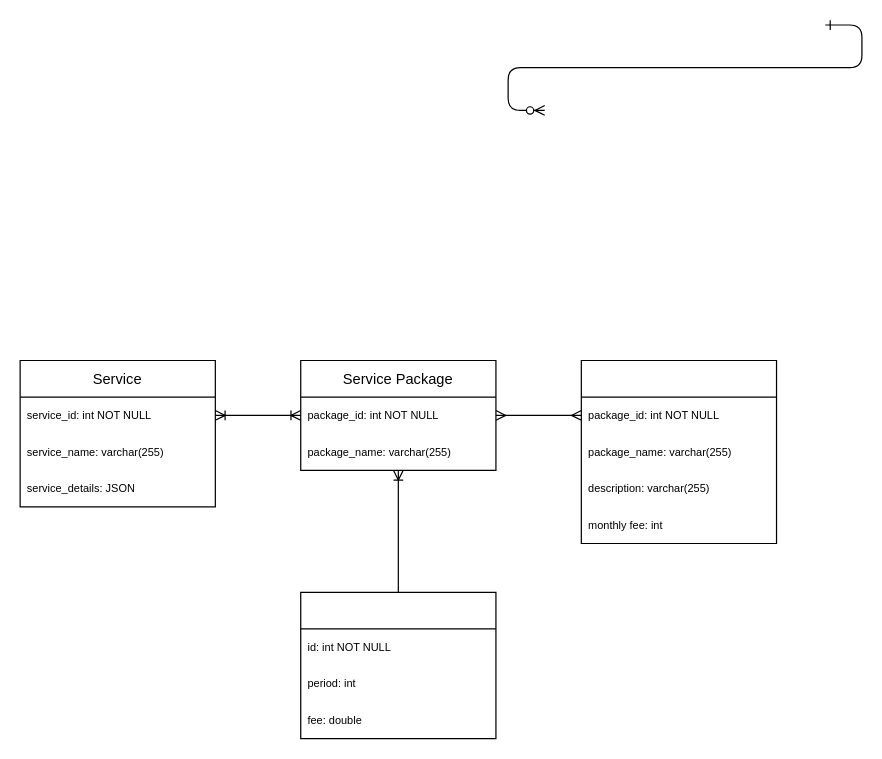
Image size: 882x759. Some labels were removed from this diagram. The box of each missing label's shape, as (x1, y1, x2, y2) in pixels:
Optional Package: (580, 359, 777, 544)
Validity Period: (300, 591, 496, 739)
